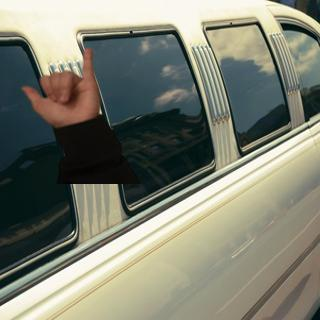HAVE: (15, 39, 106, 128)
